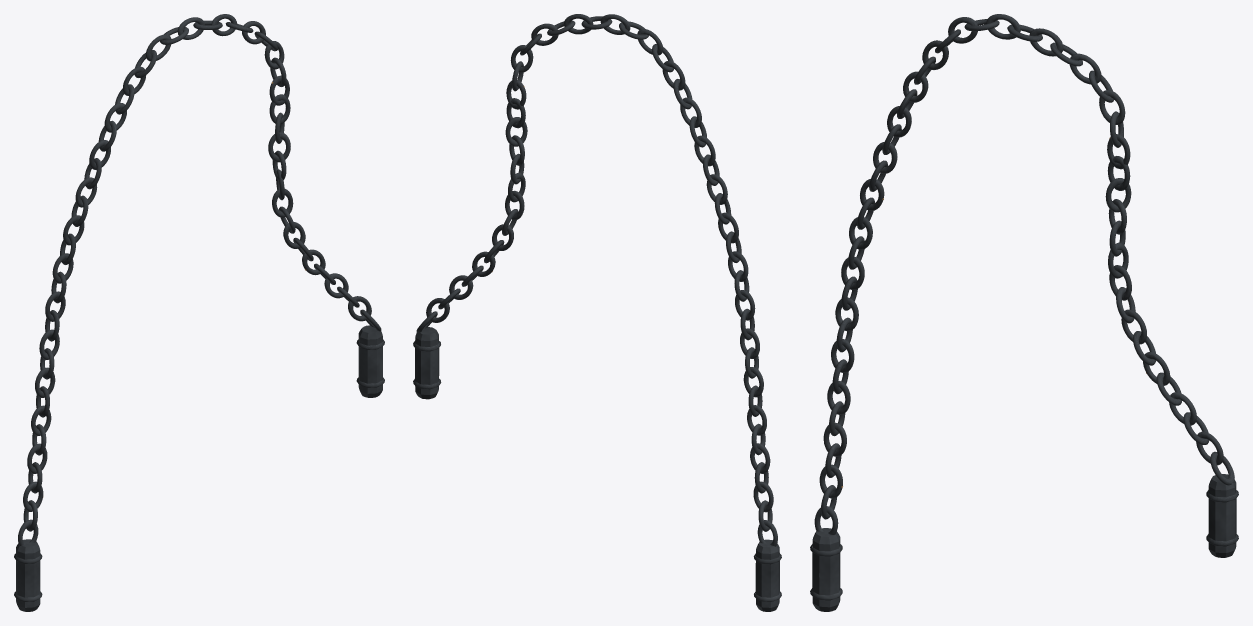
Rendered from weighted-chain.glb.
The picture shows the model from 3 angles, left to right: view 1: azimuth 30°, elevation 25°; view 2: azimuth 150°, elevation 25°; view 3: azimuth 330°, elevation 25°; orthographic projection. The views are drawn at different scales.
Visible parts, largest first — view 1: darksteel / oil-blackened fittings; view 2: darksteel / oil-blackened fittings; view 3: darksteel / oil-blackened fittings.
Boxes of the visible parts, x1,y1,x2,y2 form: darksteel / oil-blackened fittings: [14, 14, 384, 611]; darksteel / oil-blackened fittings: [413, 14, 781, 611]; darksteel / oil-blackened fittings: [810, 14, 1238, 611].
Size of the model in its own units: 0.708 by 1.02 by 0.0636.
2 materials, 1 textured.
